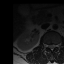CCS_normal: (51, 42, 53, 53)
LFS_normal: (55, 41, 58, 49)
LLS_normal: (53, 41, 55, 50)
RFS_normal: (46, 41, 48, 49)
RLS_normal: (48, 42, 51, 50)
